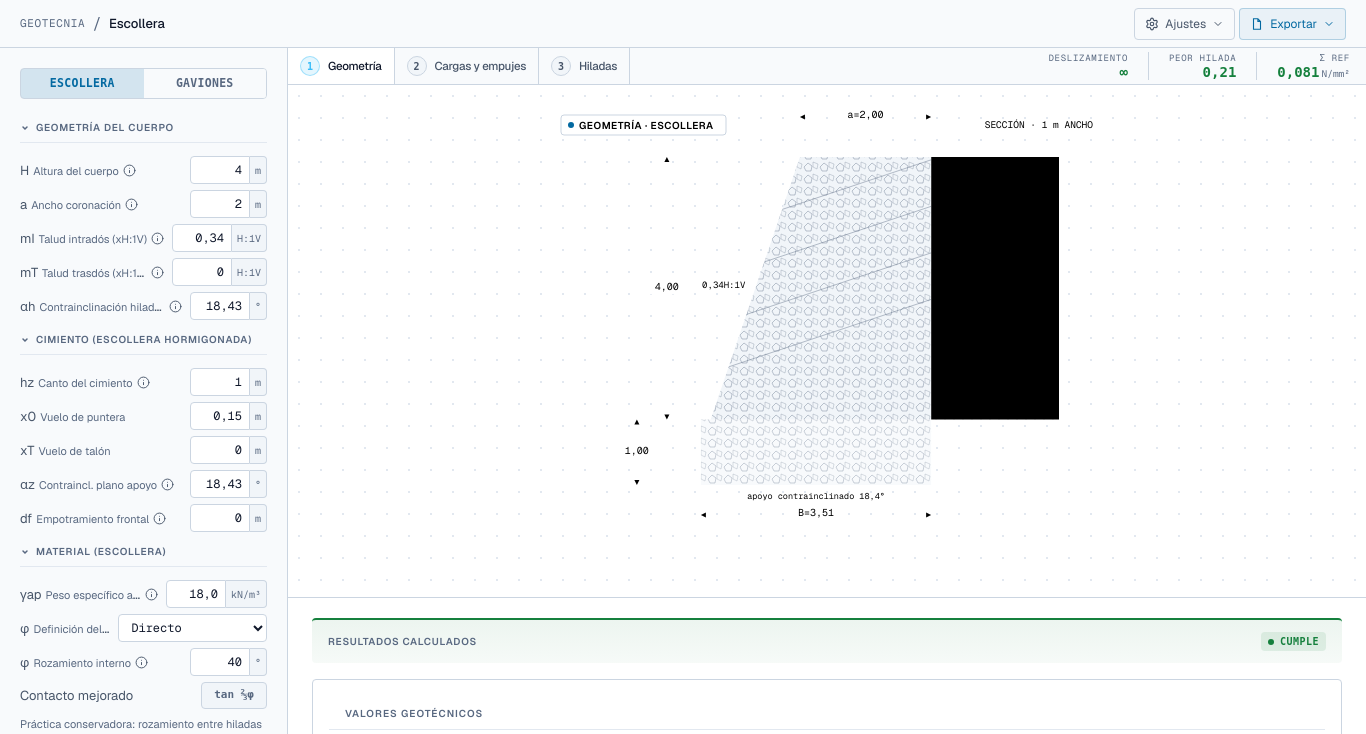
RockfillWallModule — smoke de integración › 2 · el conmutador de vistas monta Cargas y Hiladas en el lienzo
This screenshot has width=1366, height=734.
Click the button "2 Cargas y empujes": (467, 66) x1=394 y1=48 x2=539 y2=84
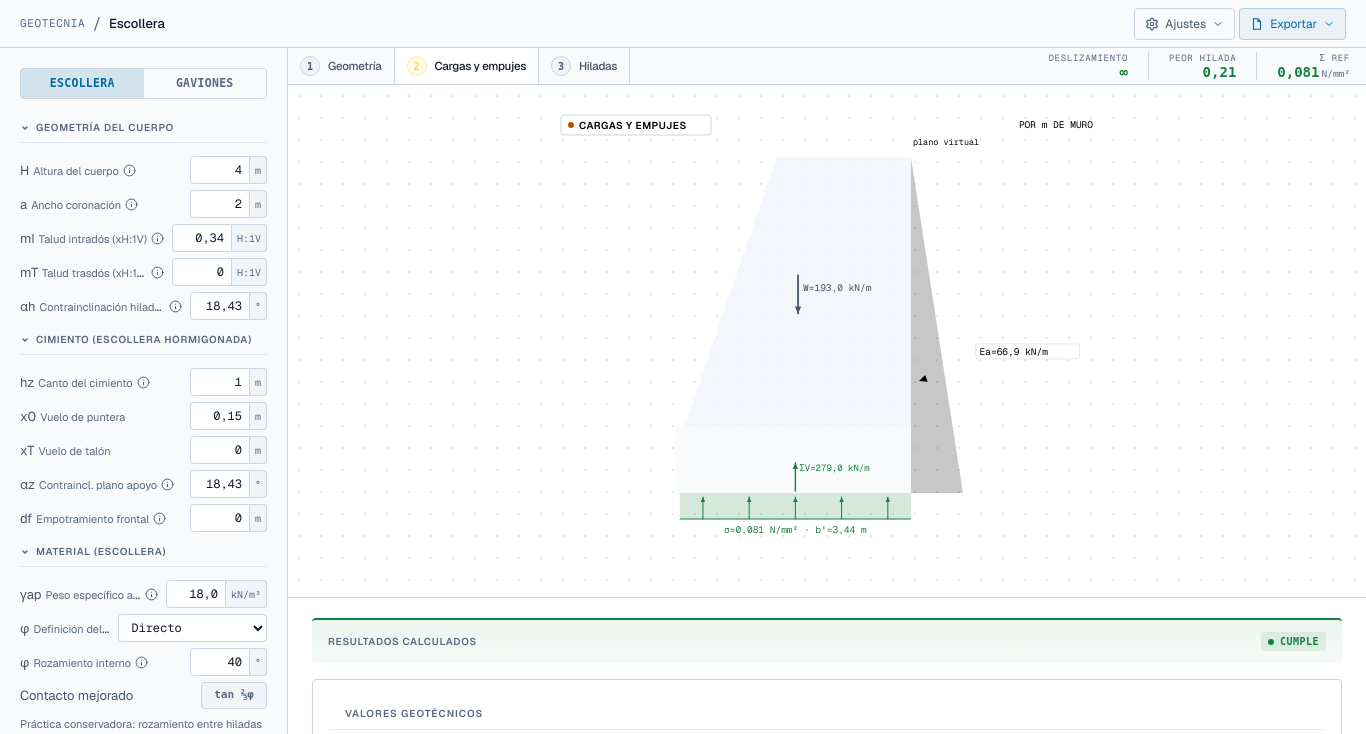
Expected: the element with class "canvas-dot-grid" is shown, x1=288 y1=85 x2=1365 y2=598
Now the picture named "Cargas y empujes sobre el muro de escollera" is shown, box x1=547 y1=101 x2=1107 y2=581
Click the button "3 Hiladas": (584, 66) x1=539 y1=48 x2=630 y2=84
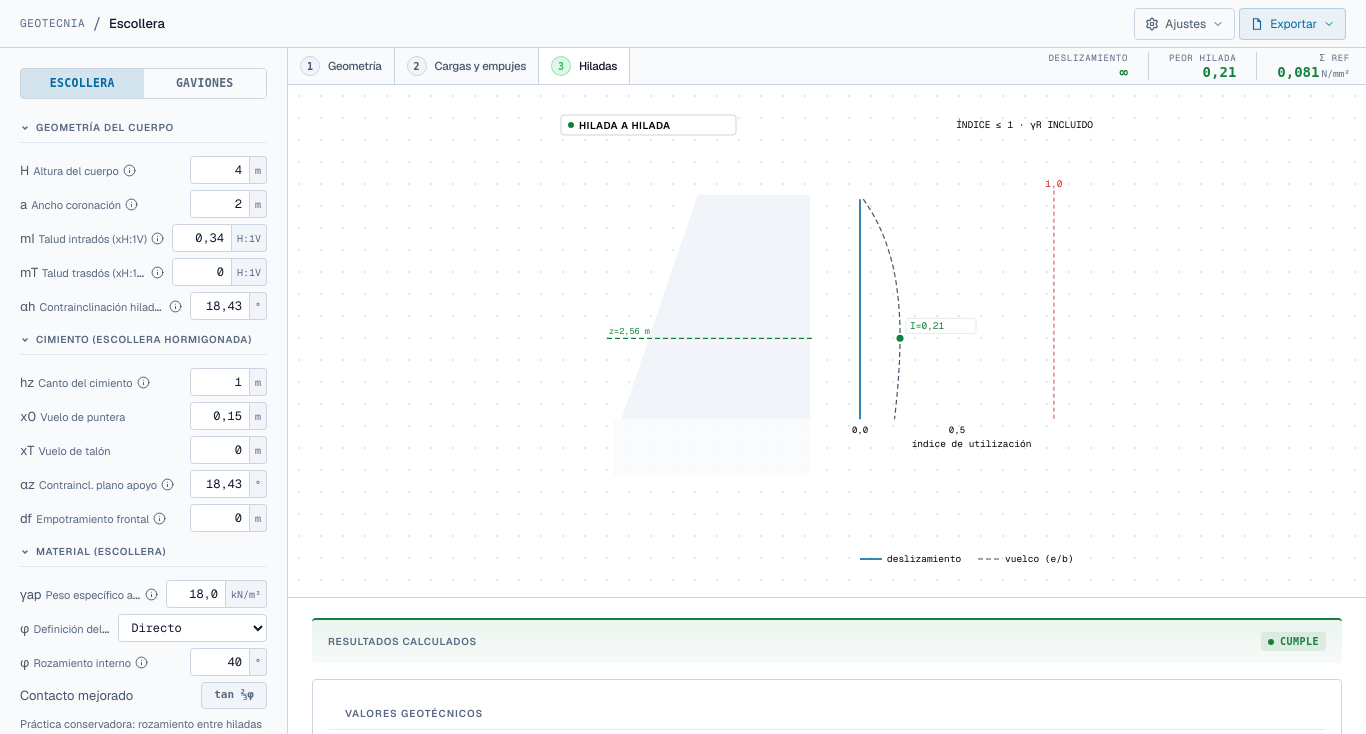
Expected: the element with class "canvas-dot-grid" is shown, x1=288 y1=85 x2=1365 y2=598
Now the picture named "Comprobación hilada a hilada" is shown, box x1=547 y1=101 x2=1107 y2=581
